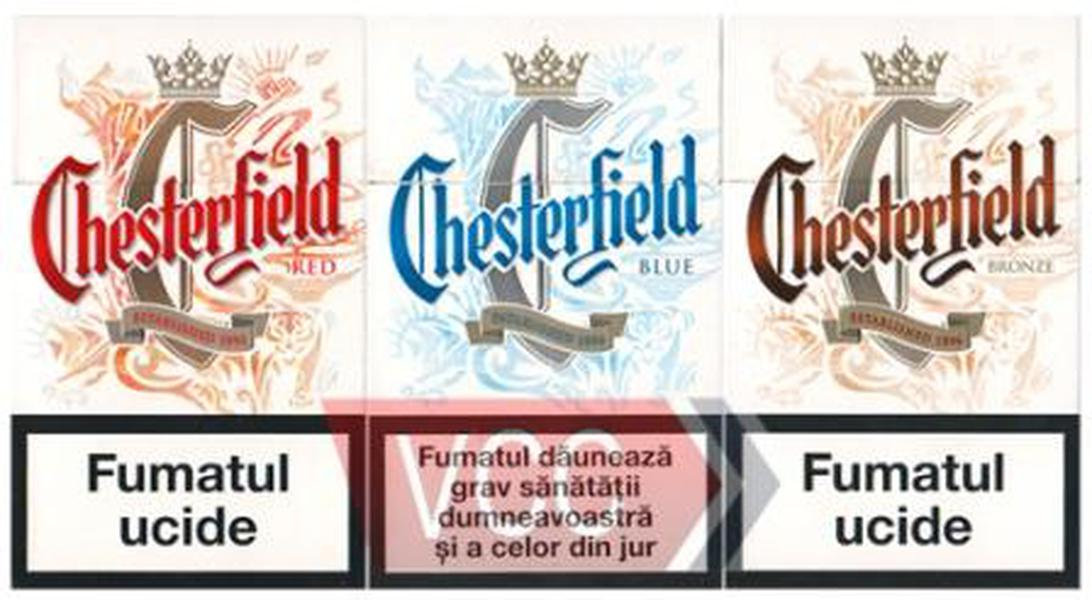chesterfield_blue: (372, 19, 719, 588)
chesterfield_red: (11, 19, 365, 588)
